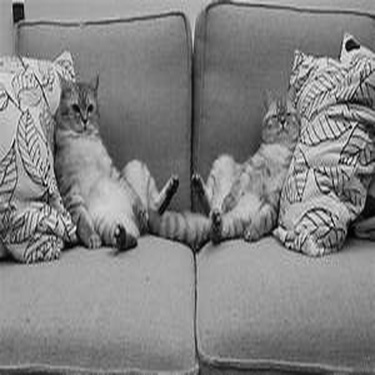cat: (56, 75, 188, 248), (189, 90, 300, 245)
